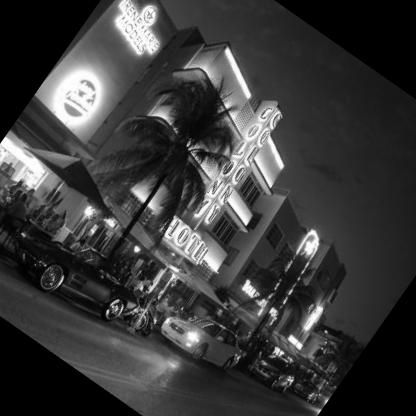car: (1, 197, 161, 360), (155, 294, 259, 393), (241, 343, 308, 406)
